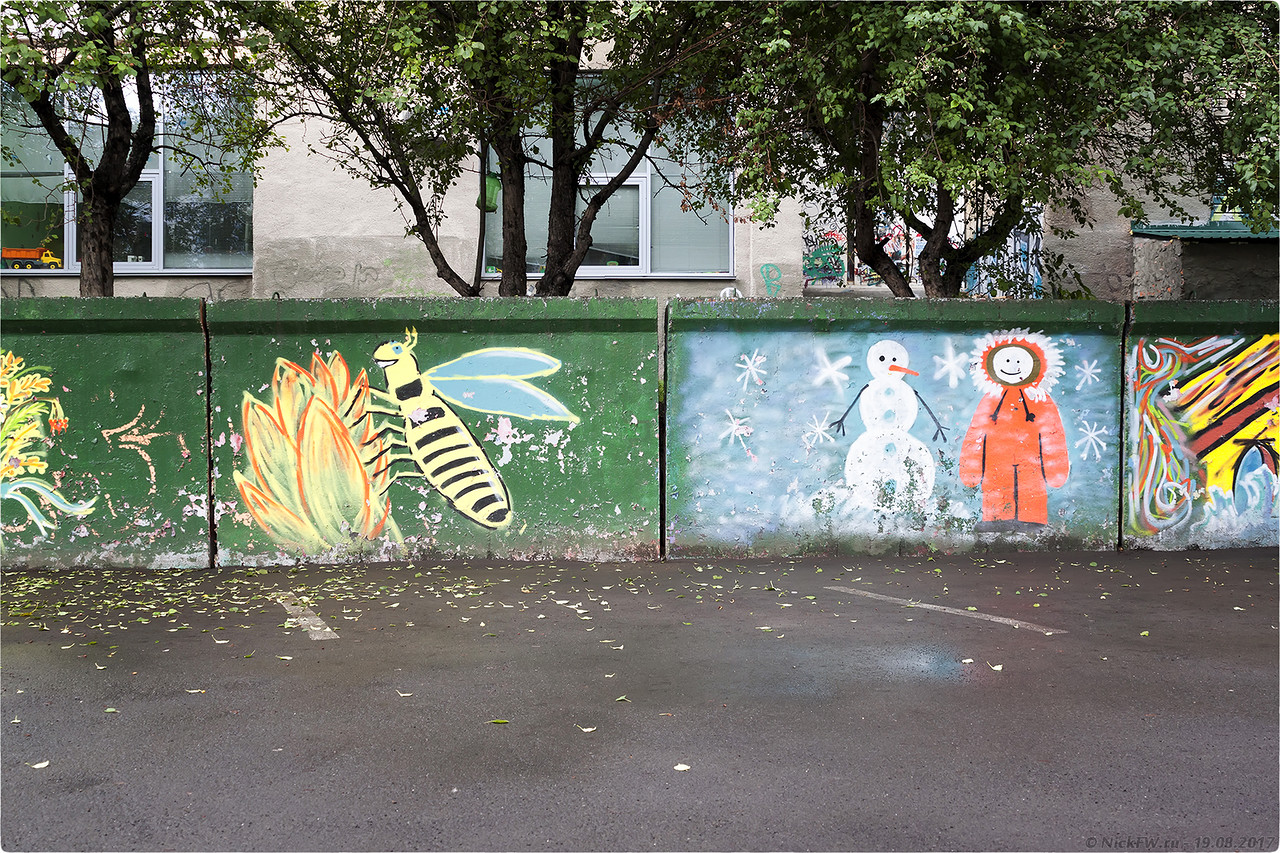graphite: (691, 328, 1096, 544), (229, 323, 581, 559), (1, 344, 169, 557), (1129, 337, 1280, 554)
